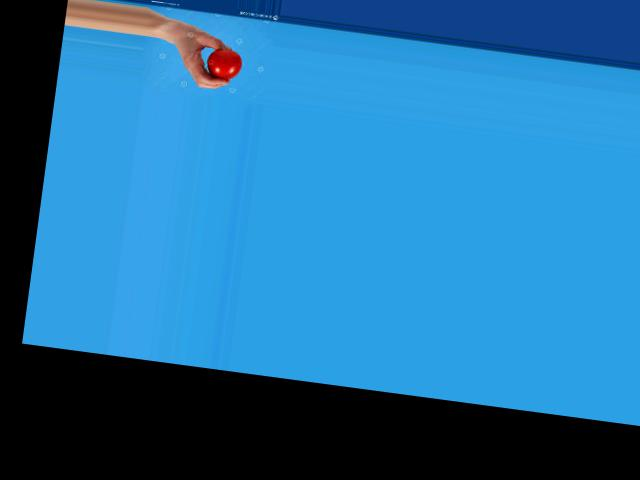tomato: (205, 47, 242, 81)
